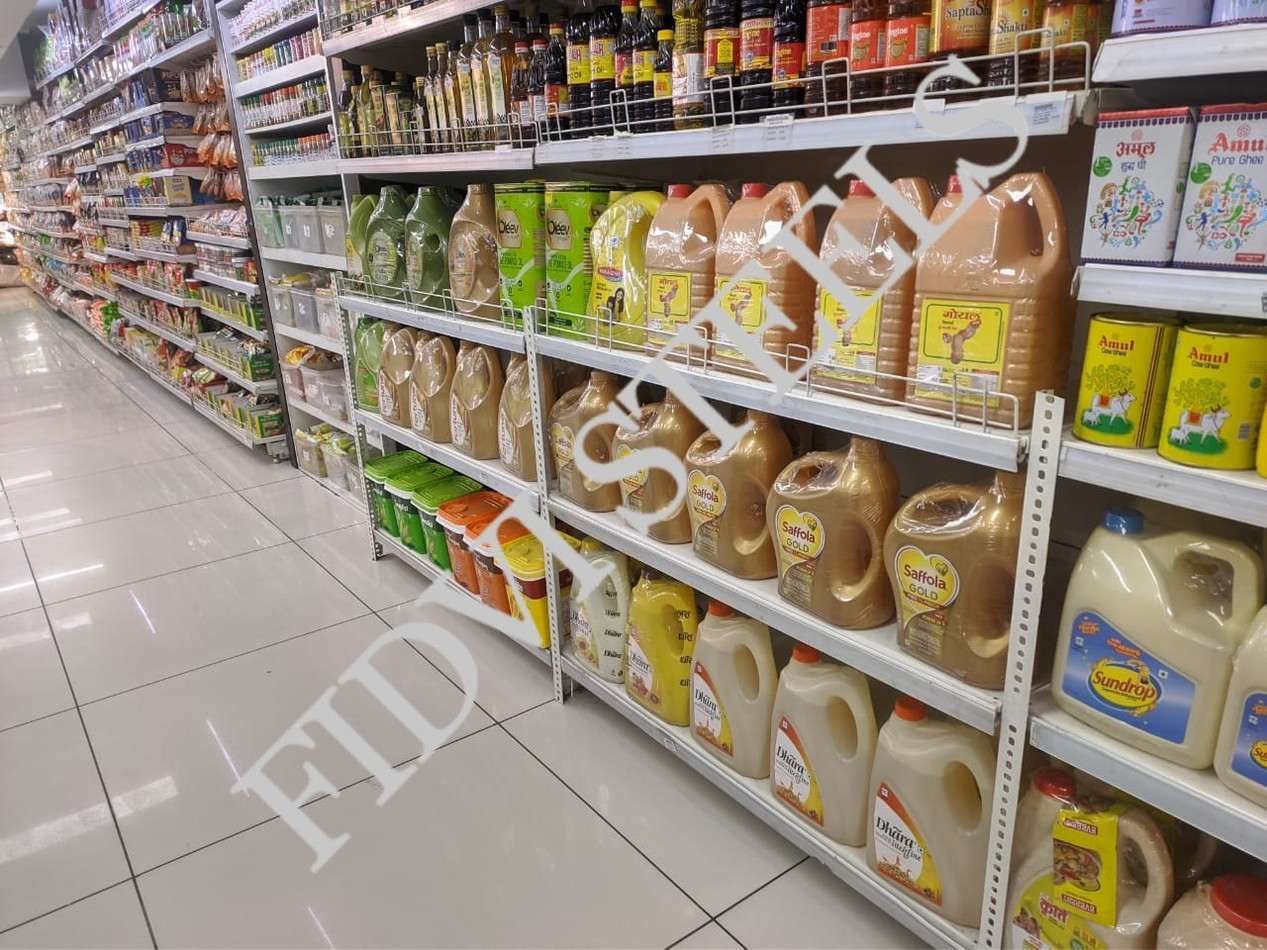saffola: (539, 340, 1058, 687), (0, 497, 670, 498)
